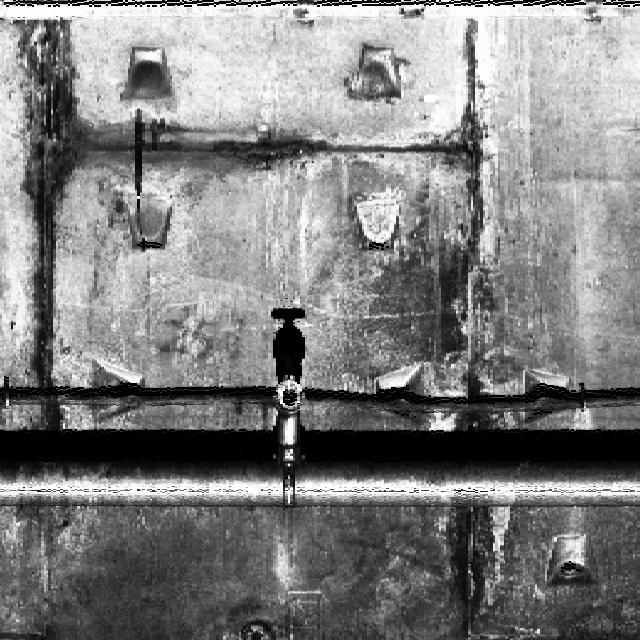leakage: (395, 15, 523, 430), (10, 13, 74, 424), (74, 108, 333, 178), (437, 496, 517, 639)
